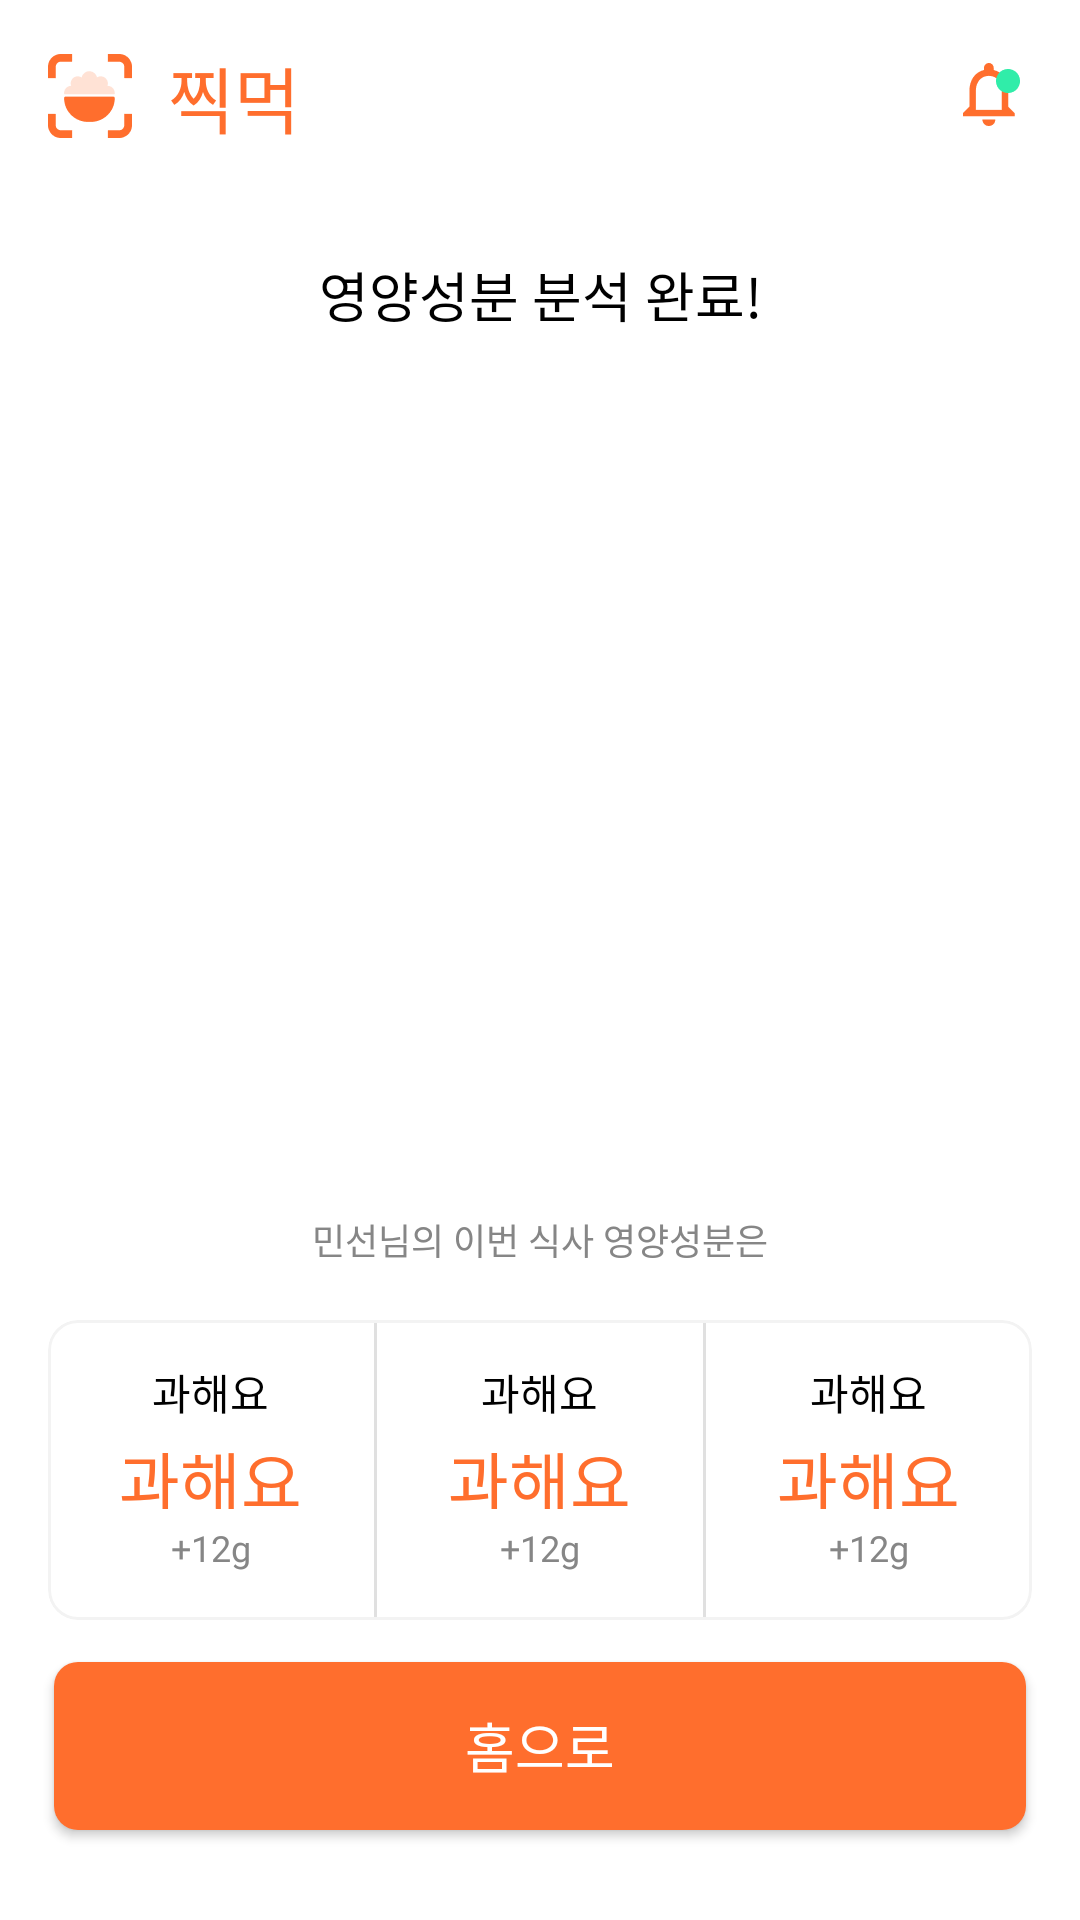

Where to tap for icons on this 1080w x 1920h app screen, as (x,y):
alarm: (991,94)
